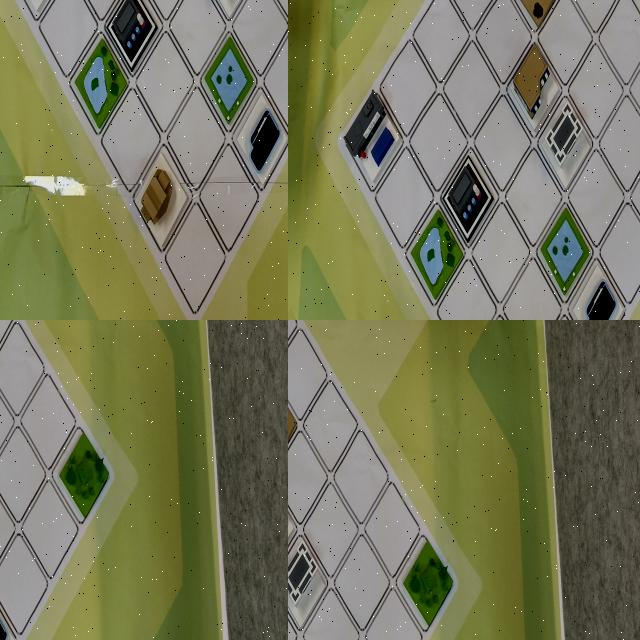bus_stop: (490, 232, 546, 318), (288, 524, 322, 632), (141, 0, 193, 45), (0, 428, 25, 516)
factory: (95, 0, 145, 46), (288, 584, 314, 640)
fish_pool: (79, 0, 130, 34), (0, 594, 30, 640)
forest: (400, 524, 456, 626), (307, 118, 354, 181), (0, 320, 28, 386)
gogo_shop: (356, 210, 402, 282), (0, 483, 24, 579), (155, 0, 209, 41)
research_build: (236, 65, 288, 169), (15, 540, 68, 635)
restaurant: (406, 200, 462, 282), (288, 468, 315, 568), (0, 476, 27, 572), (188, 0, 242, 46)
silicate_rock: (288, 373, 315, 466), (0, 342, 25, 427), (317, 46, 352, 104), (247, 0, 288, 45)
volunteer_center: (170, 24, 220, 114), (288, 522, 327, 624), (0, 439, 25, 525)
wet_land: (110, 51, 168, 147), (0, 580, 28, 640), (403, 291, 459, 320)
